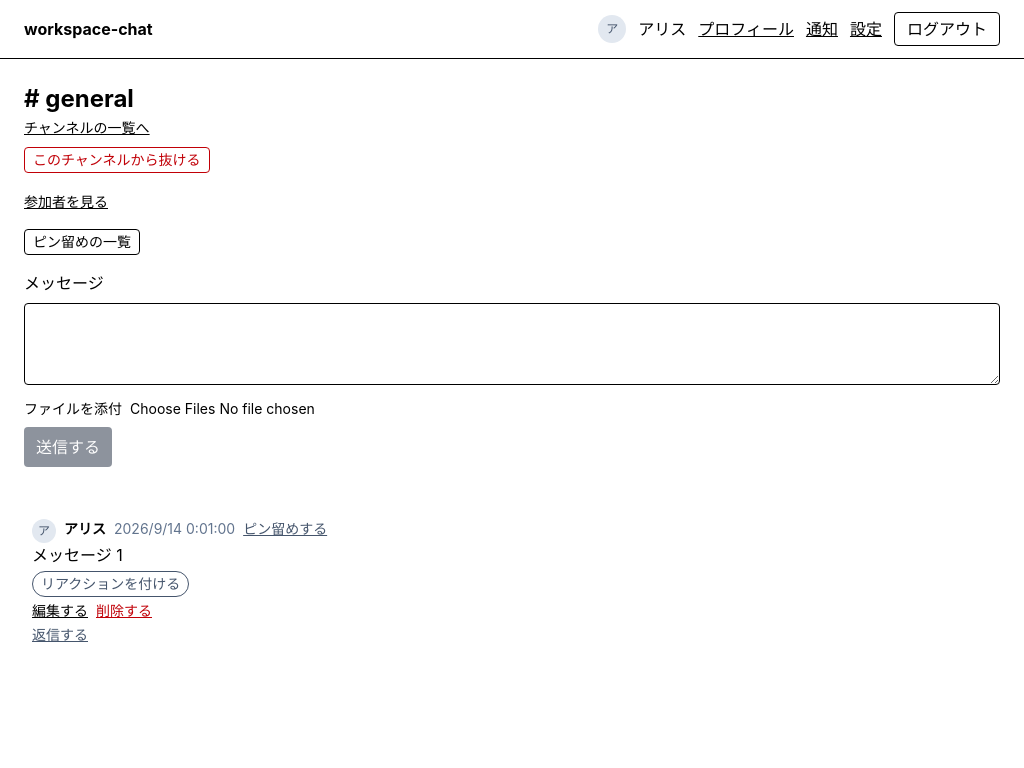
it: 編集（F-13） › 取り消すと送らず、元の本文のまま戻る
The width and height of the screenshot is (1024, 768).
Step 1. Click the button "編集する" → x=60, y=611, box [32, 601, 88, 621]
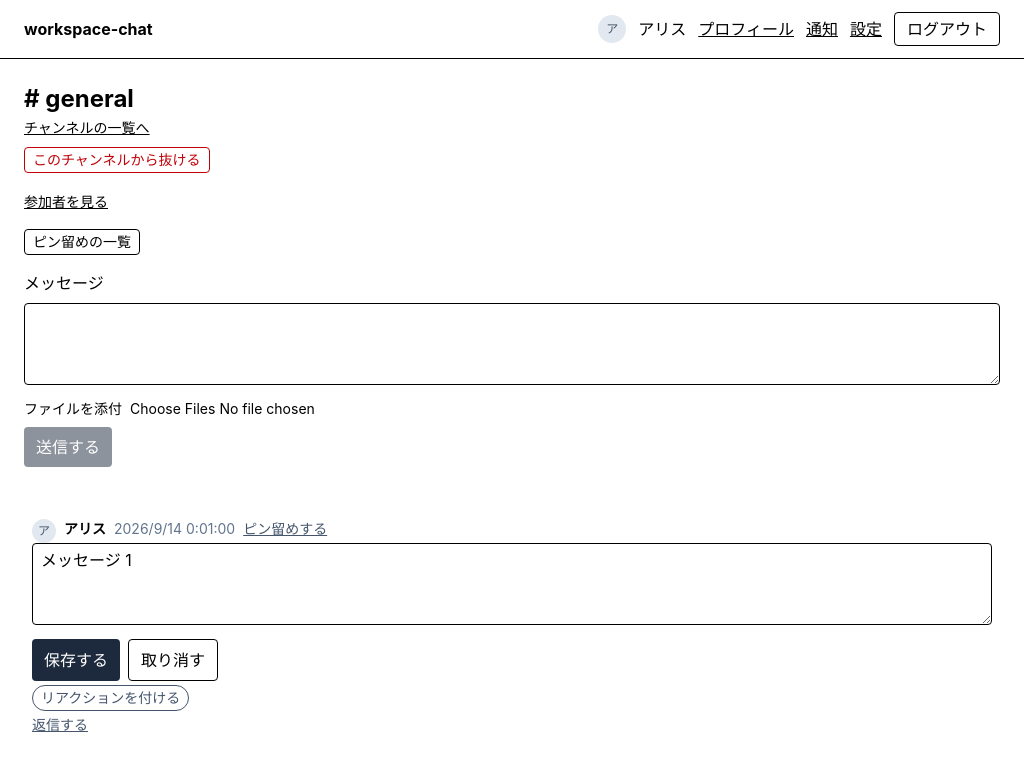
Step 2. Replace the text in the dropdown named "メッセージを編集" with "書きかけ" → x=512, y=584, box [32, 543, 992, 625]
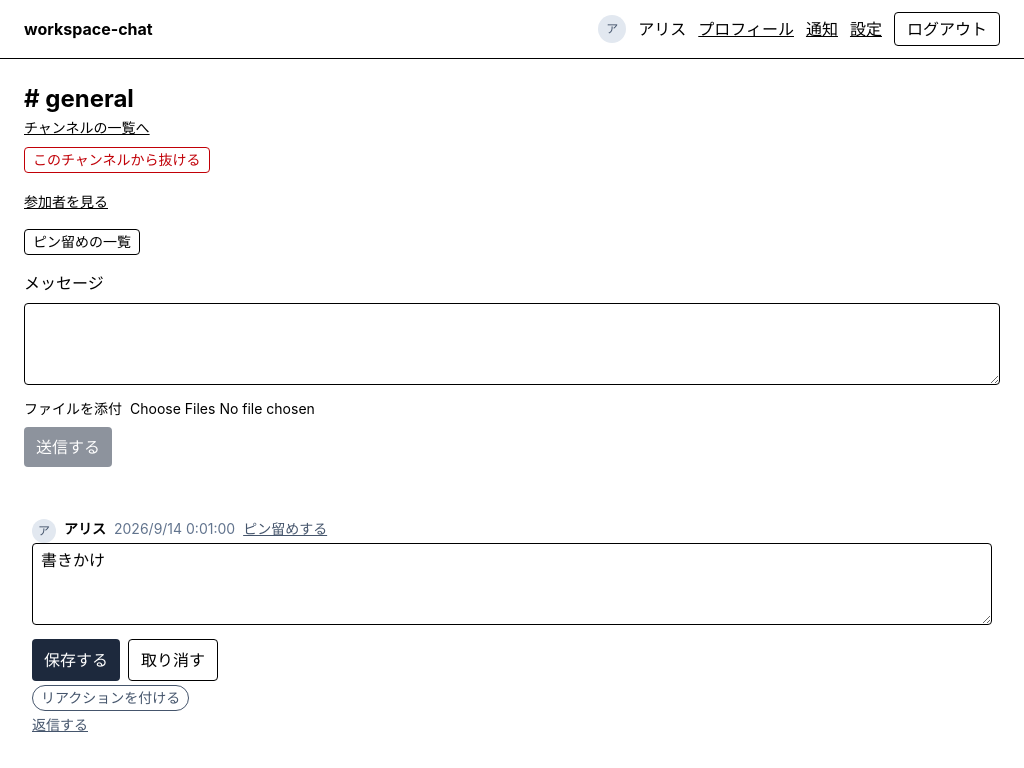
Step 3. Click the button "取り消す" → x=173, y=660, box [128, 639, 218, 681]
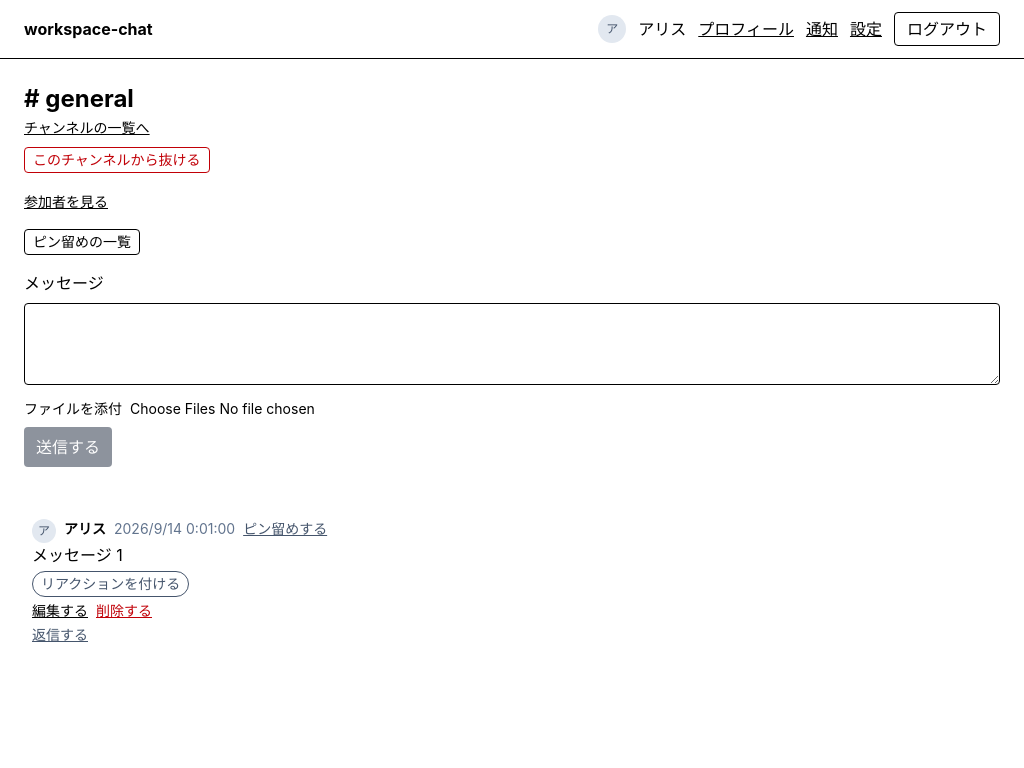
Expected: the field labelled "メッセージを編集" is not shown
Expected: the text "メッセージ 1" is shown, [32, 545, 123, 565]
